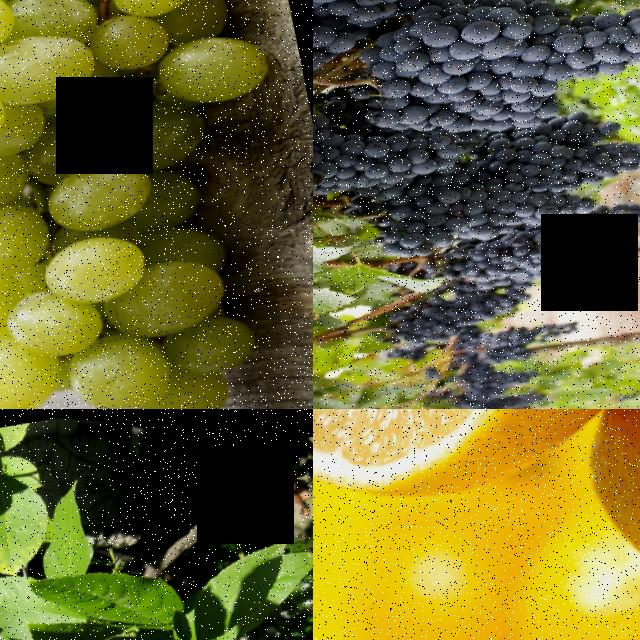grapes: (0, 0, 313, 409), (389, 0, 640, 153), (368, 145, 604, 270), (313, 91, 470, 223), (464, 87, 626, 194), (443, 196, 615, 294)
lemon: (313, 409, 618, 535)
